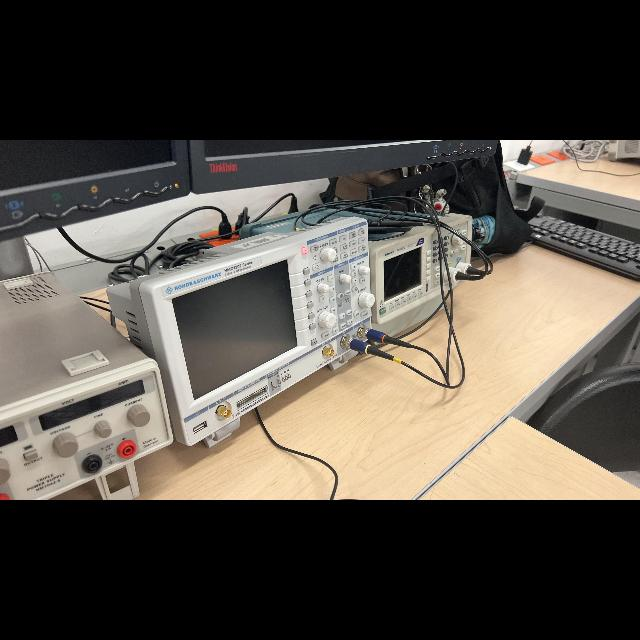Digital-Oscilloscope: (108, 217, 371, 446)
